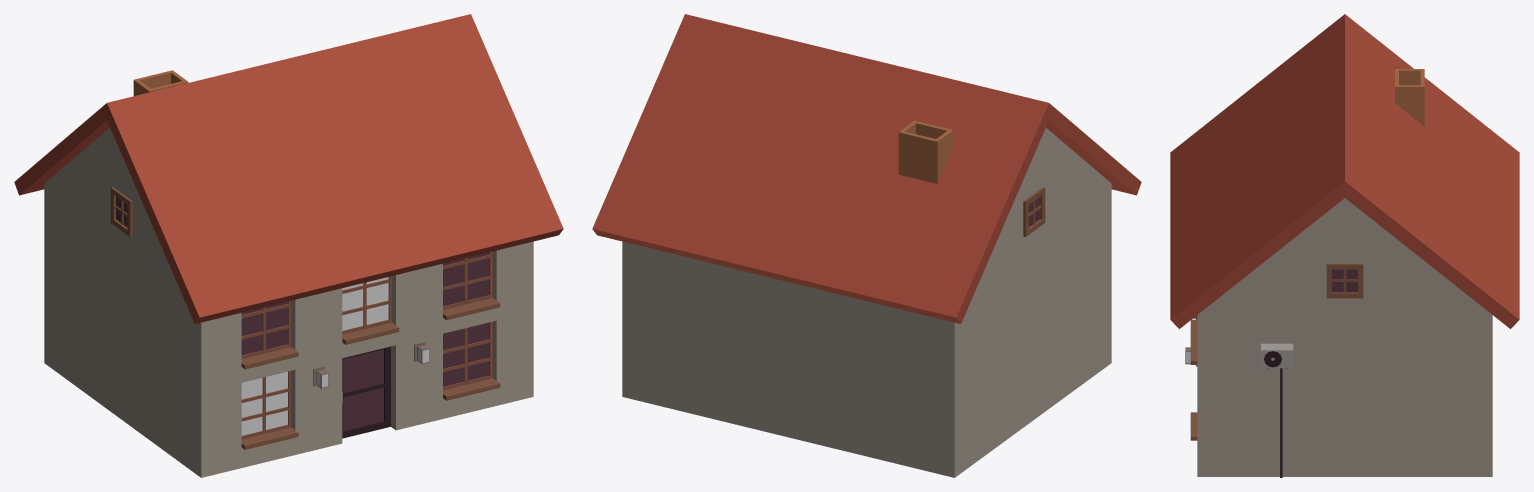
Rendered from Building_38.FBX.
3 views of the same model, side by side, from view 1: azimuth 30°, elevation 25°; view 2: azimuth 150°, elevation 25°; view 3: azimuth 270°, elevation 25° (orthographic). The views are drawn at different scales.
Visible parts, largest first — view 1: Building_38, Building_38LP; view 2: Building_38; view 3: Building_38.
Part boxes in pixels (x1,y1,x2,y2): Building_38: (14, 14, 563, 477); Building_38LP: (241, 277, 429, 435); Building_38: (592, 14, 1141, 477); Building_38: (1170, 14, 1519, 477).
Bounding box in the file's own units: 11.45 × 9.67 × 10.1.
